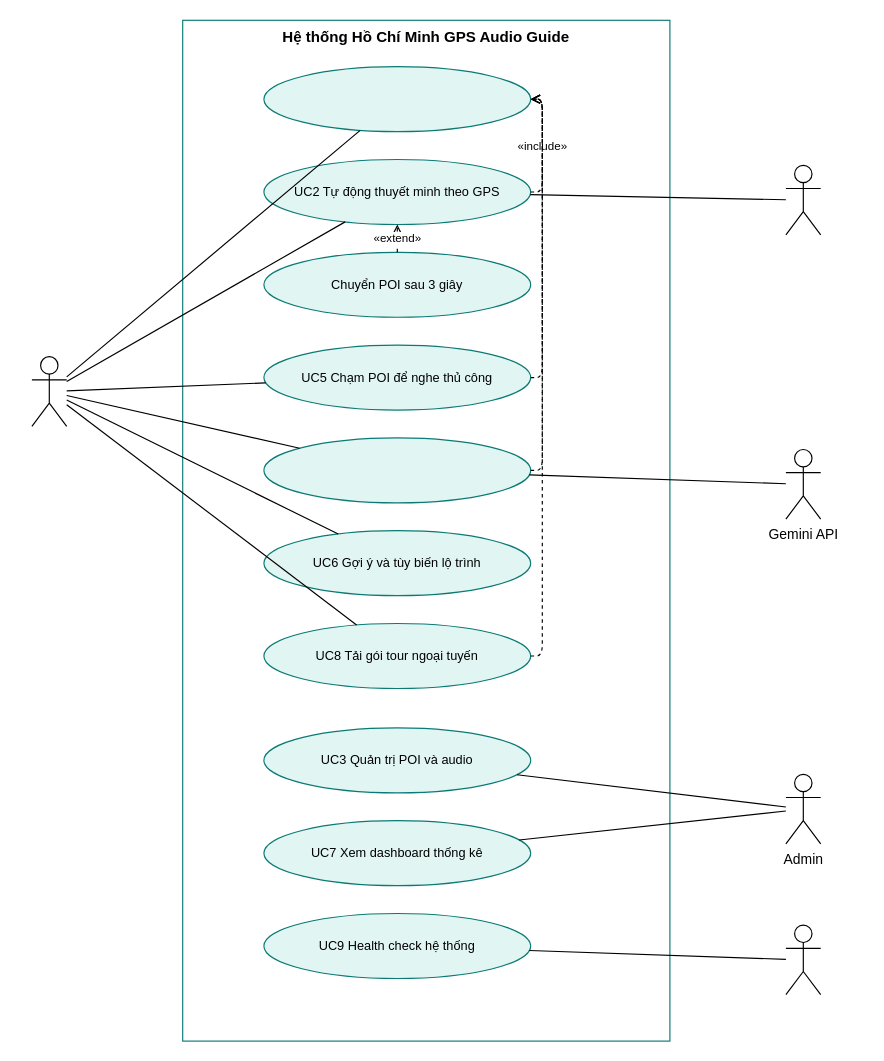
Image size: 884x1061. Some labels were removed from this diagram. The shapes that lost their labels are listed below. From the top down, each one's centre as x and y in pixels, then its label:
At pixel 397 99: "UC1 Quét QR, nhận access pass".
At pixel 803 199: "Device Geolocation".
At pixel 49 391: "Du khách".
At pixel 397 470: "UC4 Hỏi trợ lý AI".
At pixel 803 959: "CI/CD Runner".
